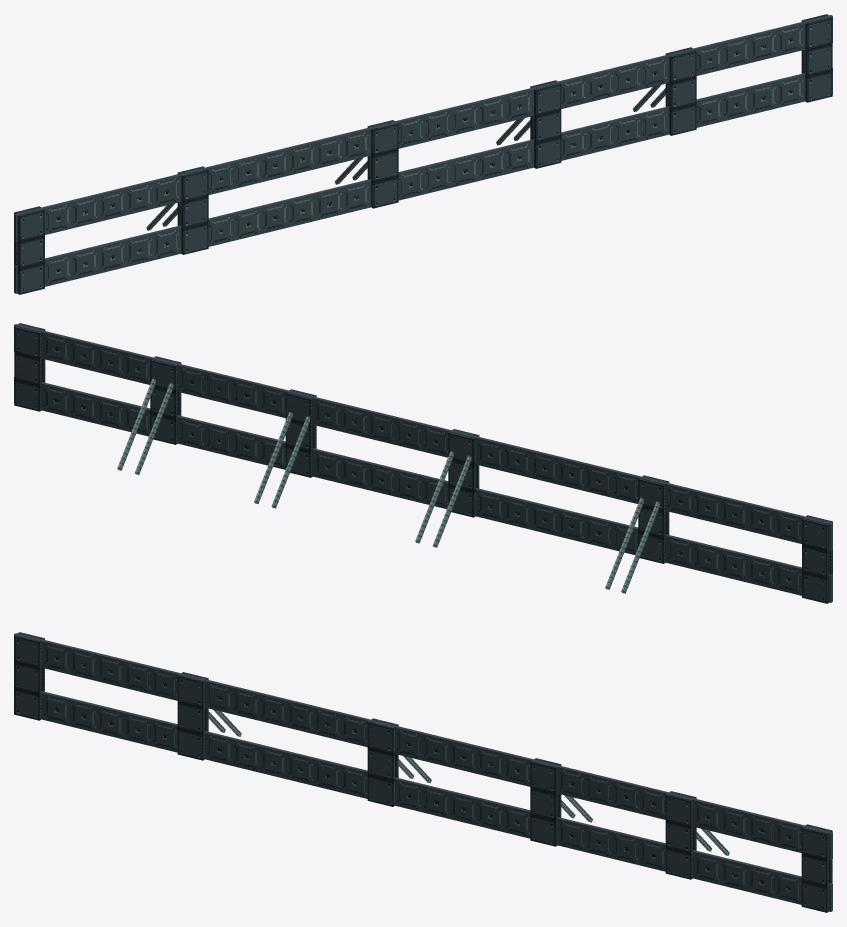
Rendered from wall.gltf.
3 renders of one model, top to bottom at view 1: azimuth 30°, elevation 25°; view 2: azimuth 150°, elevation 25°; view 3: azimuth 330°, elevation 25°, orthographic.
Parts seen in each view (by area): view 1: cube (×8); view 2: cube (×16); view 3: cube (×8).
Boxes of the visible parts, <box> form: cube (×8): <box>14,15,832,294</box>; cube (×16): <box>14,324,832,603</box>; cube (×8): <box>14,633,832,912</box>.
Bounding box in the file's own units: 32 × 3.16 × 2.78.
3 materials, 3 textured.
